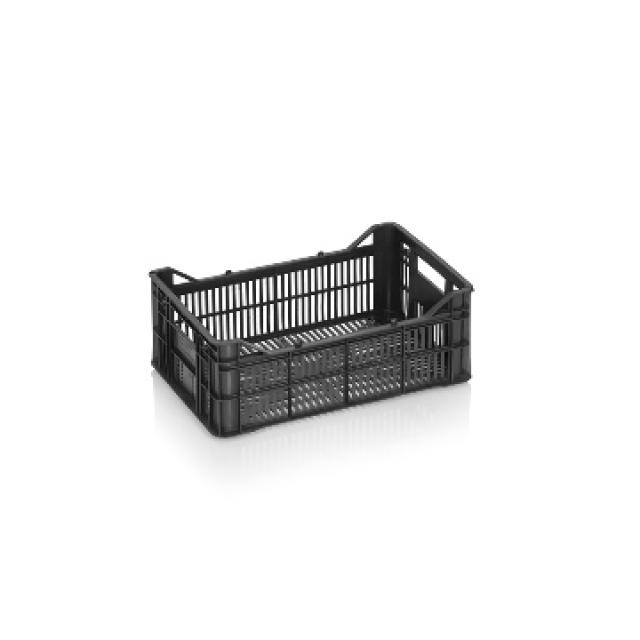basket: (132, 201, 495, 451)
